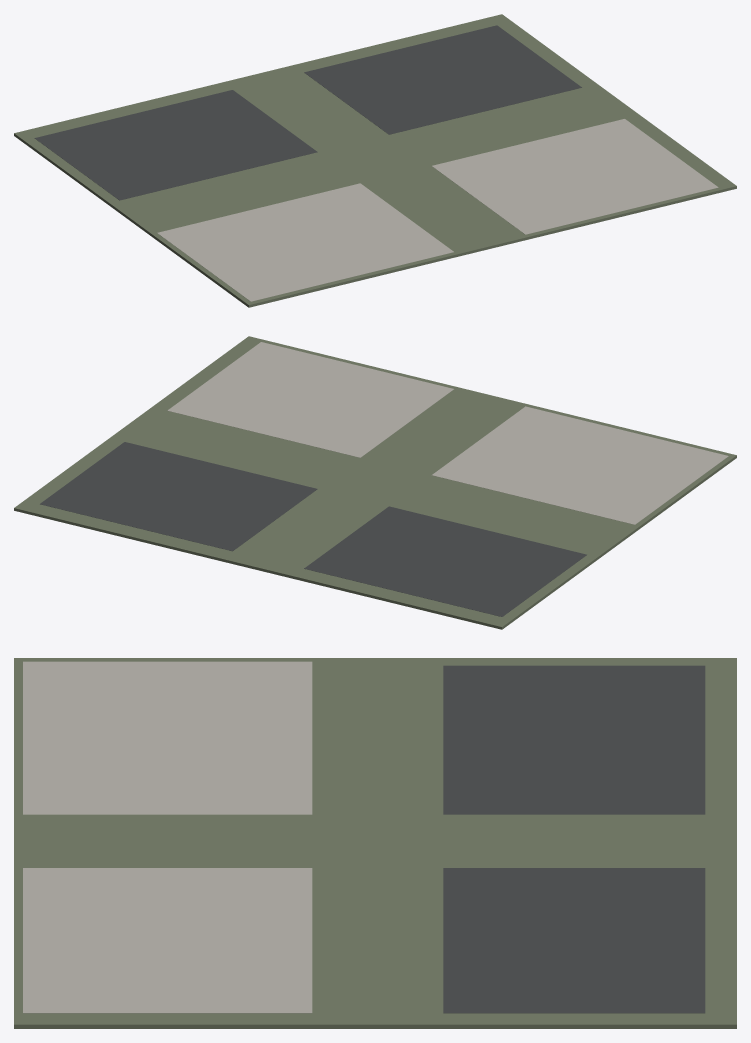
File: city_ground.glb
3 renders of one model, top to bottom at view 1: azimuth 30°, elevation 25°; view 2: azimuth 150°, elevation 25°; view 3: azimuth 270°, elevation 25°, orthographic. The views are drawn at different scales.
Visible parts, largest first — view 1: city_ground; view 2: city_ground; view 3: city_ground.
Part boxes in pixels (<box>): city_ground: <box>14,14,736,307</box>; city_ground: <box>14,336,736,629</box>; city_ground: <box>14,658,736,1028</box>.
Bounding box in the file's own units: 192 × 1.05 × 160.
